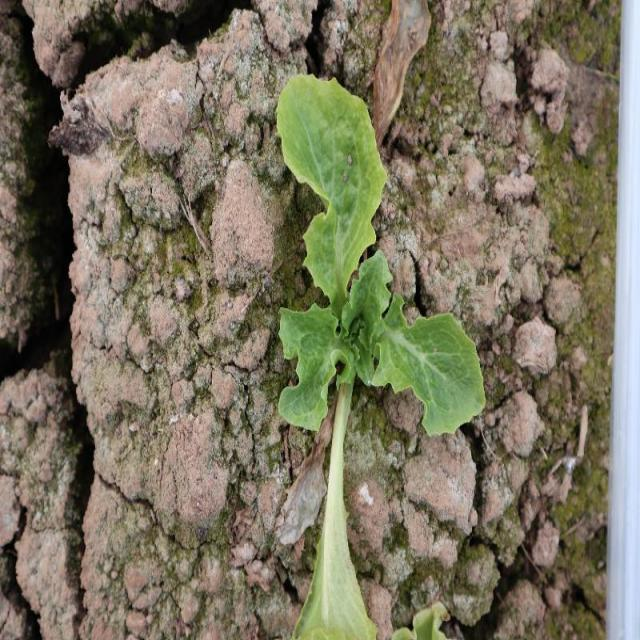crop: (275, 72, 487, 442)
